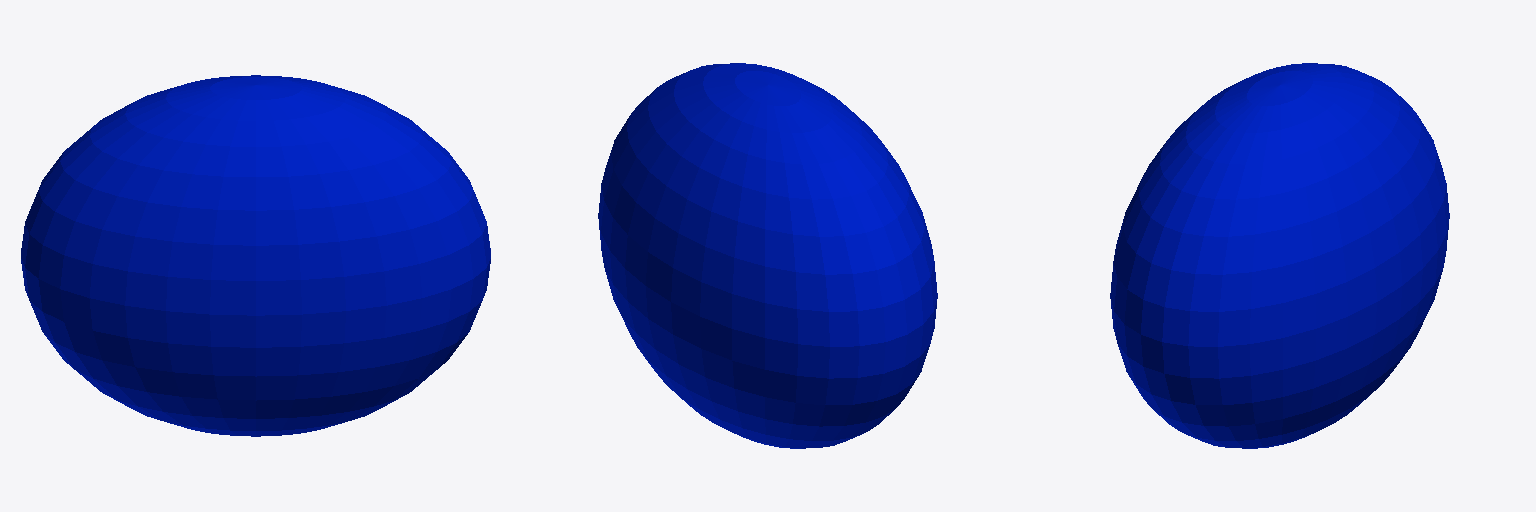
Rendered from moya_TV_b.obj.
3 views of the same model, side by side, from view 1: azimuth 30°, elevation 25°; view 2: azimuth 150°, elevation 25°; view 3: azimuth 270°, elevation 25° (orthographic).
Parts seen in each view (by area): view 1: Sphere_Sphere.002; view 2: Sphere_Sphere.002; view 3: Sphere_Sphere.002.
Boxes of the visible parts, x1=… form: Sphere_Sphere.002: x1=21, y1=75, x2=490, y2=436; Sphere_Sphere.002: x1=598, y1=63, x2=937, y2=448; Sphere_Sphere.002: x1=1110, y1=63, x2=1449, y2=448.
Size of the model in its own units: 0.9149 by 0.8 by 0.721.